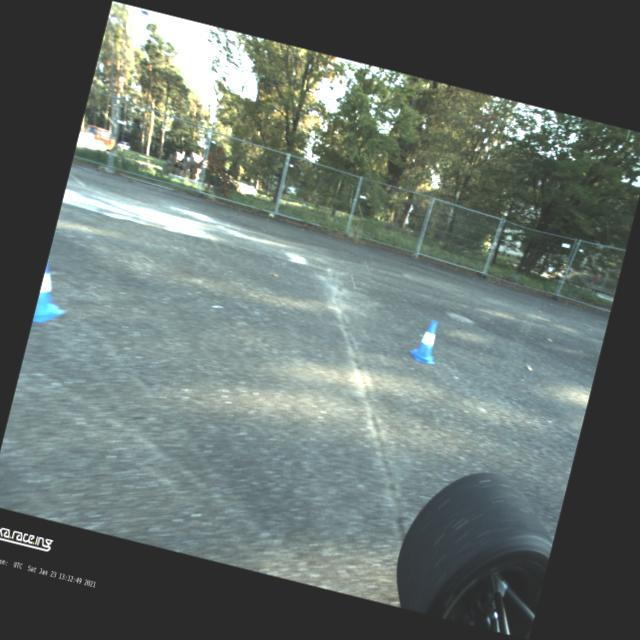blue_cone: (32, 258, 77, 329), (407, 314, 446, 366)
